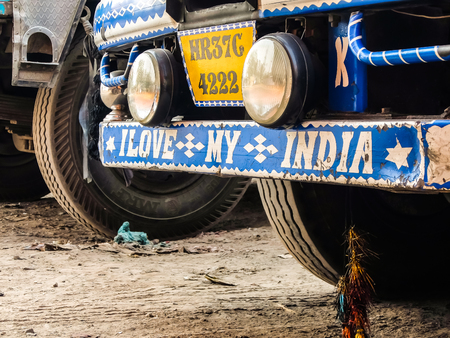doublelinenumberplate: (174, 27, 252, 105)
